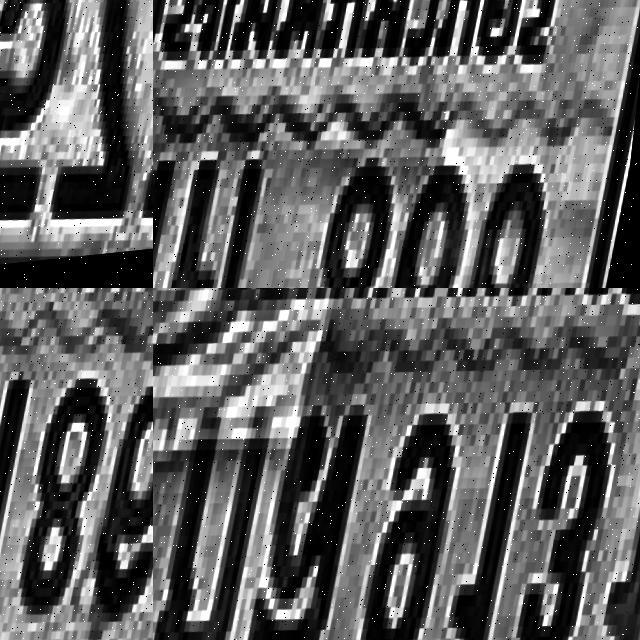license-plate: (153, 288, 640, 640), (153, 0, 640, 288), (0, 288, 153, 640), (0, 0, 153, 288)
